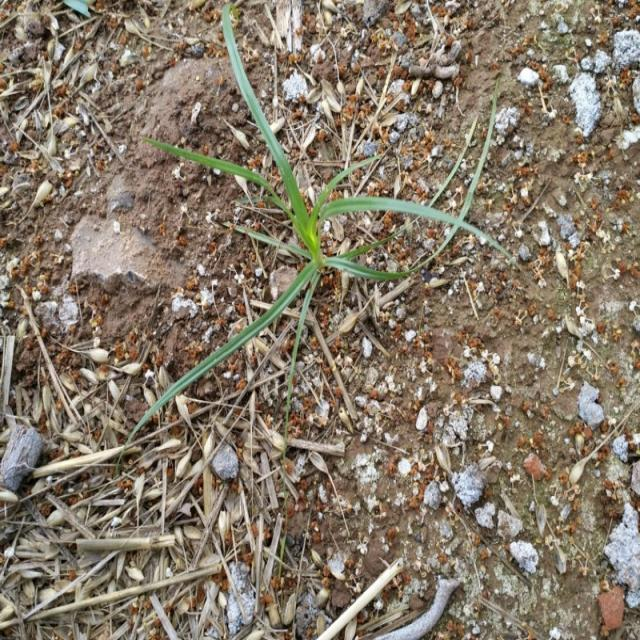sedge: (116, 24, 500, 407)
